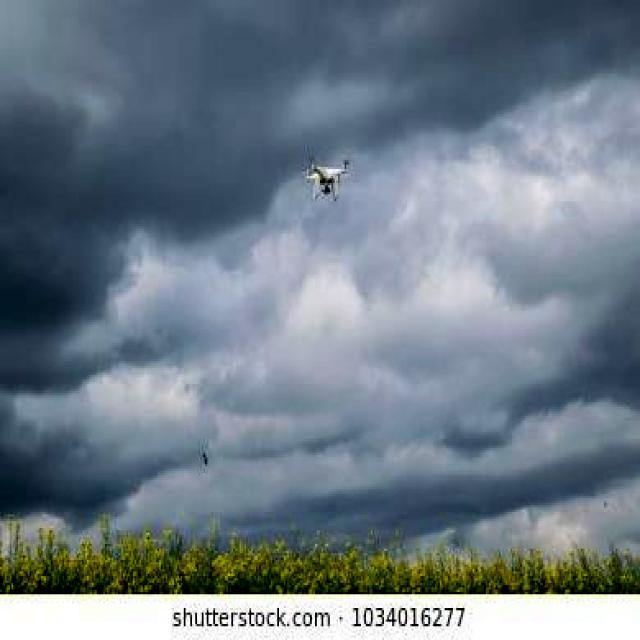drone: (302, 154, 351, 205)
